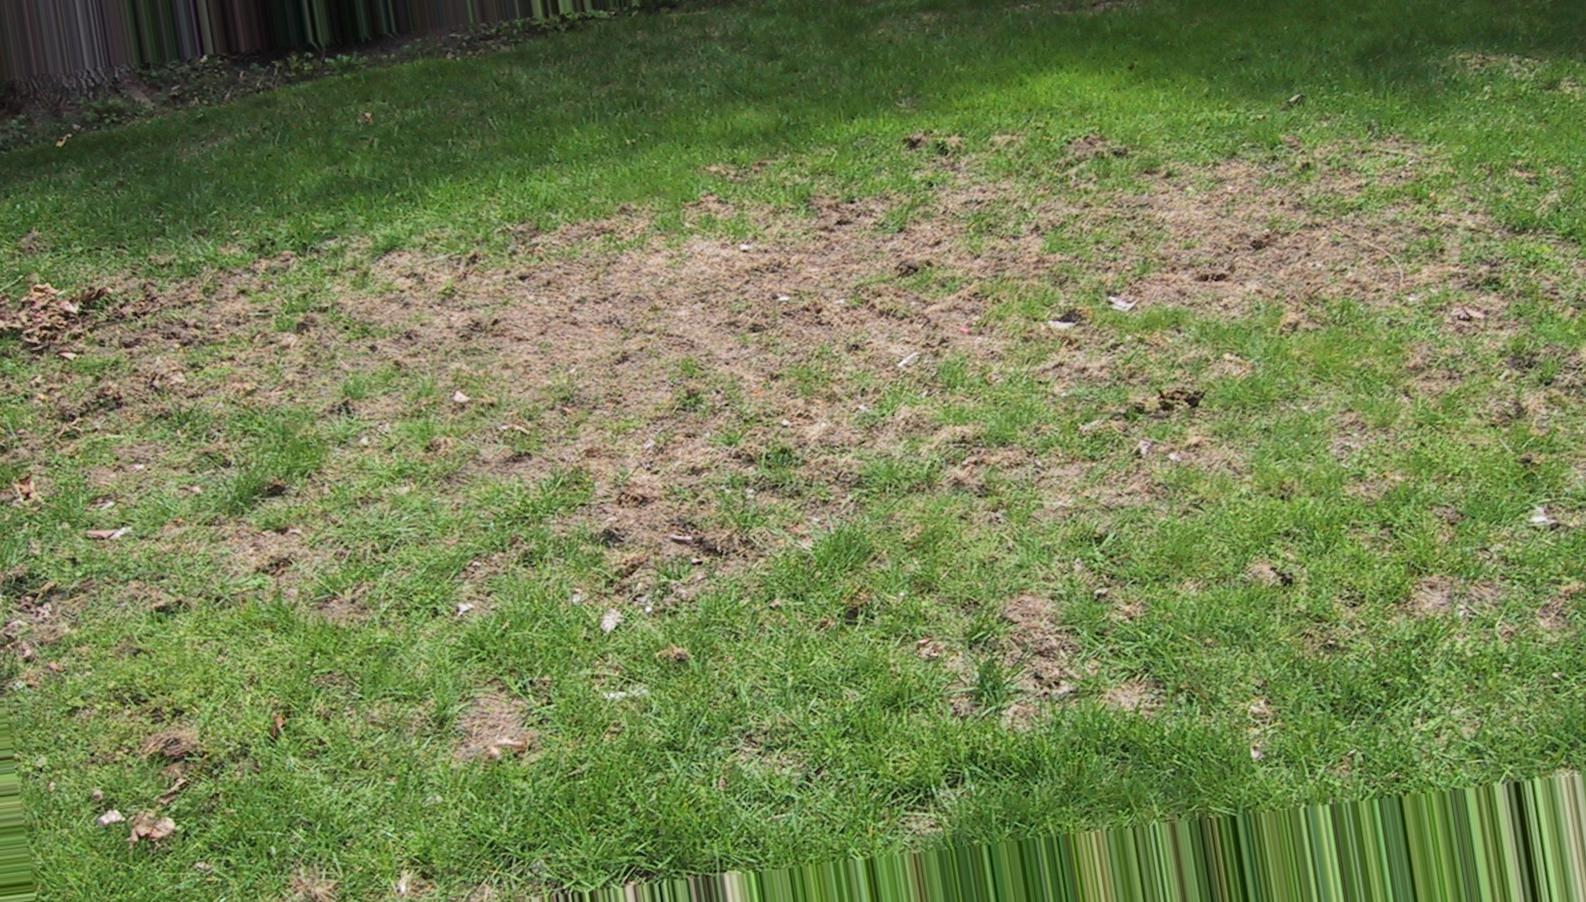patch: (547, 248, 1051, 528), (121, 293, 503, 431), (1128, 187, 1454, 298)
